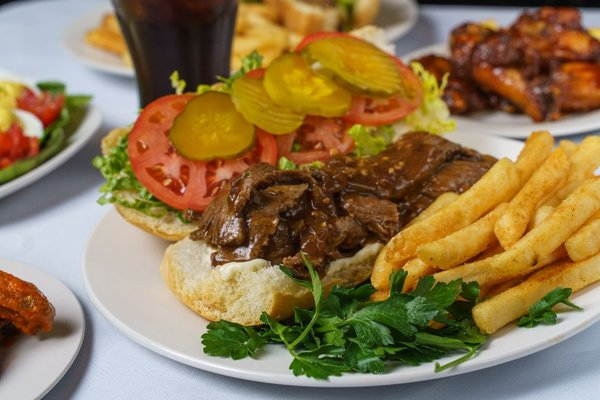sushi: (0, 70, 100, 201)
